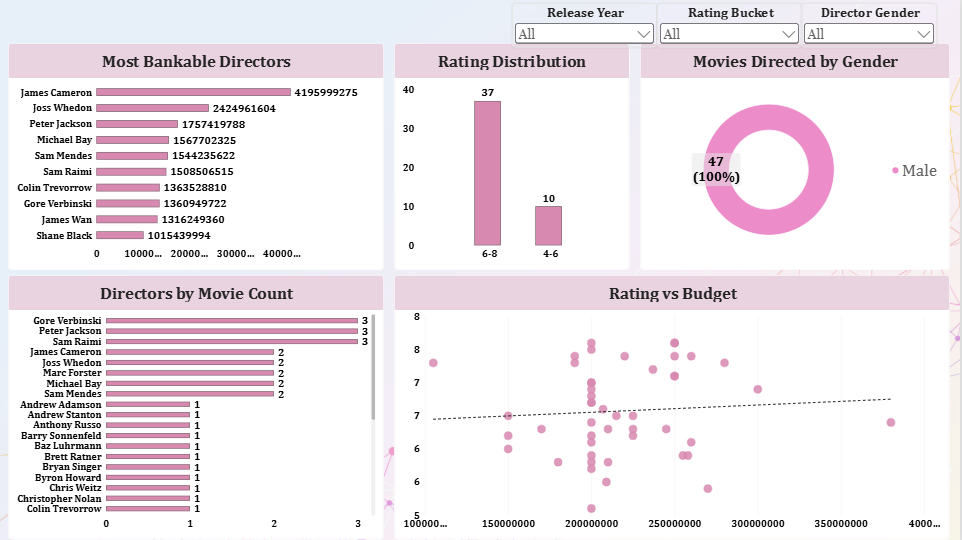

The page's visual inventory and layout, read from the dashboard file:
{"tool":"powerbi","page":{"name":"IMDB MOVIES 2","canvas":[1920,1080],"ordinal":1},"visuals":[{"type":"barChart","title":"Most Bankable Directors ","fields":{"Category":["directors.name"],"Y":["movies.Director Total Profit"]},"box":[15.1,86.4,751.7,453.6],"z":0},{"type":"clusteredColumnChart","title":"Rating Distribution","fields":{"Category":["movies.Rating Bucket"],"Y":["CountNonNull(movies.id)"]},"box":[788.4,86.4,470.9,453.6],"z":1000},{"type":"pieChart","title":"Movies Directed by Gender","fields":{"Category":["directors.Gender Clean"],"Y":["CountNonNull(movies.id)"]},"box":[1280.9,86.4,619.9,453.6],"z":2000},{"type":"barChart","title":"Directors by Movie Count ","fields":{"Category":["directors.name"],"Y":["movies.Movies Per Director"]},"box":[15.1,550.8,751.7,529.2],"z":3000},{"type":"scatterChart","title":"Rating vs Budget ","fields":{"Category":["movies.title"],"X":["Sum(movies.budget)"],"Y":["Sum(movies.vote_average)"]},"box":[788.4,550.8,1112.4,529.2],"z":4000},{"type":"slicer","title":"Release Year","fields":{"Values":["movies.Release Year"]},"box":[1023.8,6.5,290.4,88.8],"z":5000},{"type":"slicer","title":"Rating Bucket","fields":{"Values":["movies.Rating Bucket"]},"box":[1313.3,6.5,290.4,88.8],"z":6000},{"type":"slicer","title":"Director Gender","fields":{"Values":["directors.Gender Clean"]},"box":[1602.7,6.5,272.2,88.6],"z":7000}]}

Visuals, with their boxes in screenshot pixels (x1, y1, x2, y2), scaled from the page's 1920x1080 canvas onto the 962x540 screenshot:
"Most Bankable Directors " barChart: (left=8, top=43, right=384, bottom=270)
"Rating Distribution" clusteredColumnChart: (left=395, top=43, right=631, bottom=270)
"Movies Directed by Gender" pieChart: (left=642, top=43, right=952, bottom=270)
"Directors by Movie Count " barChart: (left=8, top=275, right=384, bottom=539)
"Rating vs Budget " scatterChart: (left=395, top=275, right=952, bottom=539)
"Release Year" slicer: (left=513, top=3, right=658, bottom=48)
"Rating Bucket" slicer: (left=658, top=3, right=804, bottom=48)
"Director Gender" slicer: (left=803, top=3, right=939, bottom=48)
